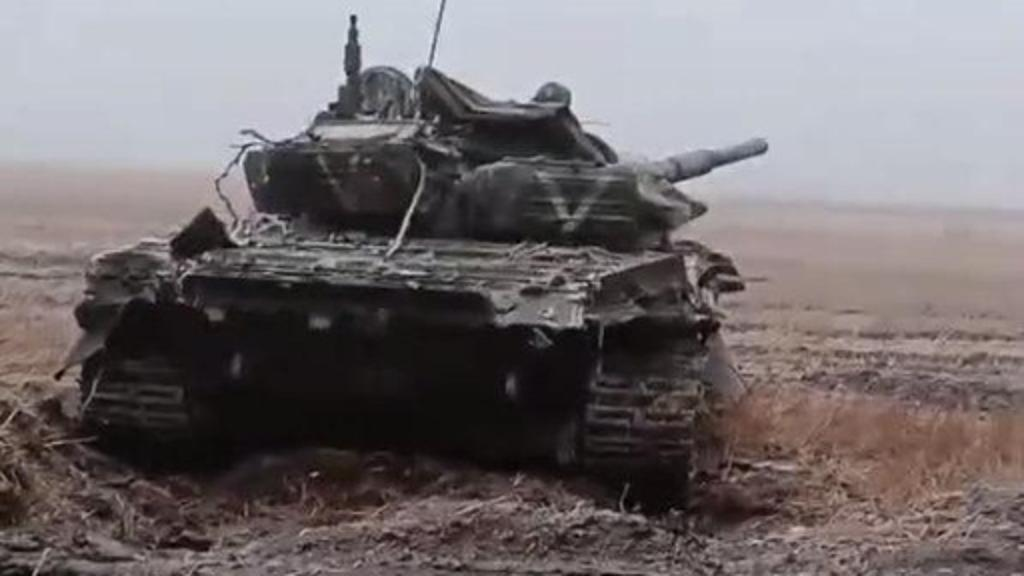TANK: (52, 66, 788, 530)
